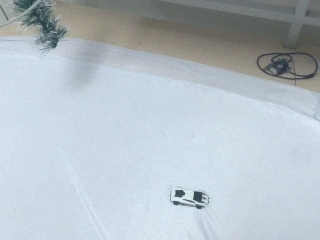toy_car: (170, 186, 210, 208)
